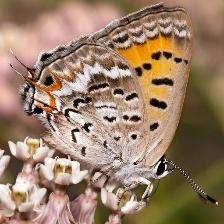butterfly: (22, 6, 193, 186)
